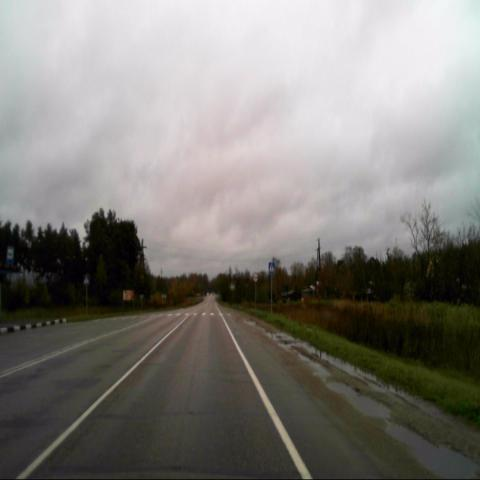5_16: (6, 248, 13, 264)
5_19_1: (268, 262, 275, 275)
